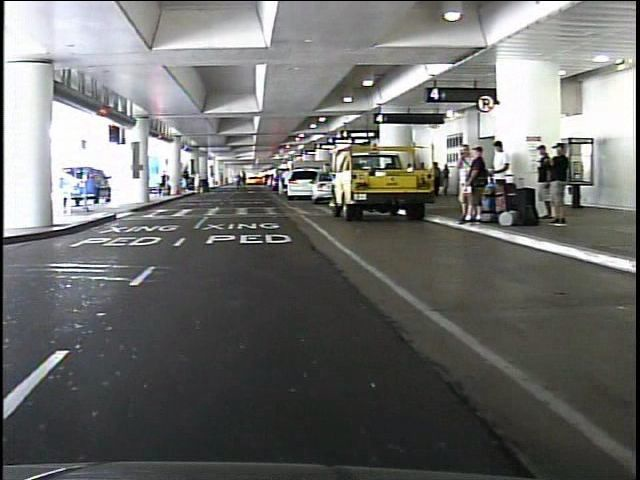person: (542, 143, 564, 231), (446, 143, 467, 220), (185, 166, 200, 200), (274, 165, 289, 199)
